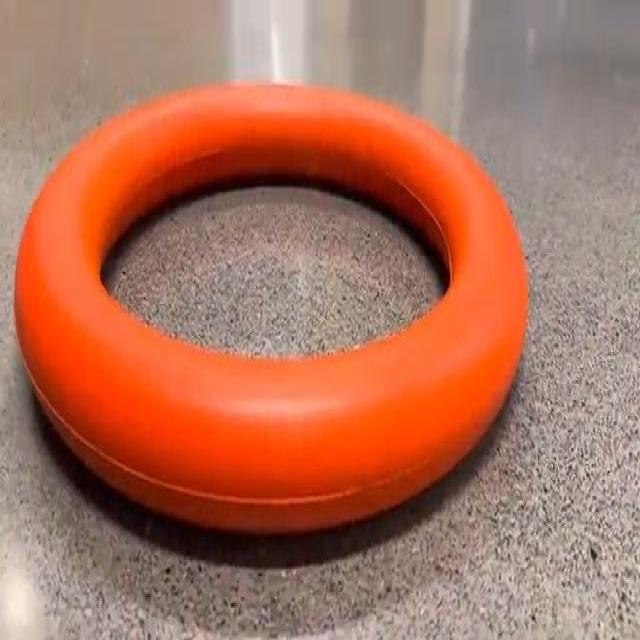note: (16, 86, 527, 534)
